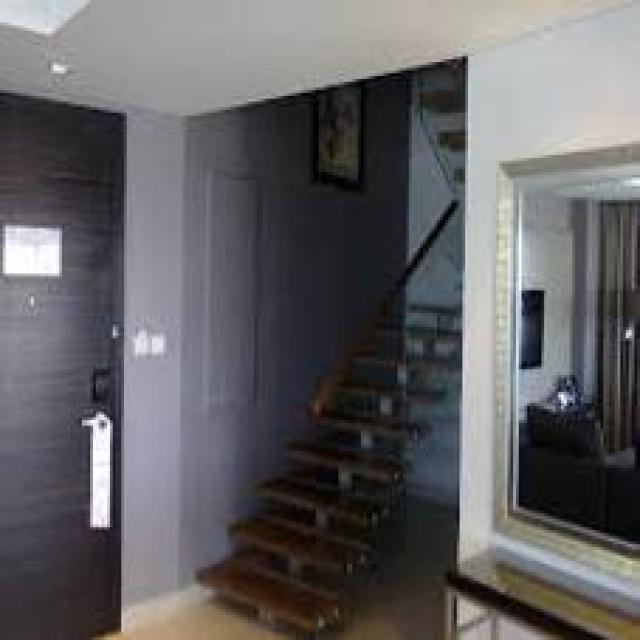upstair: (185, 441, 385, 630)
